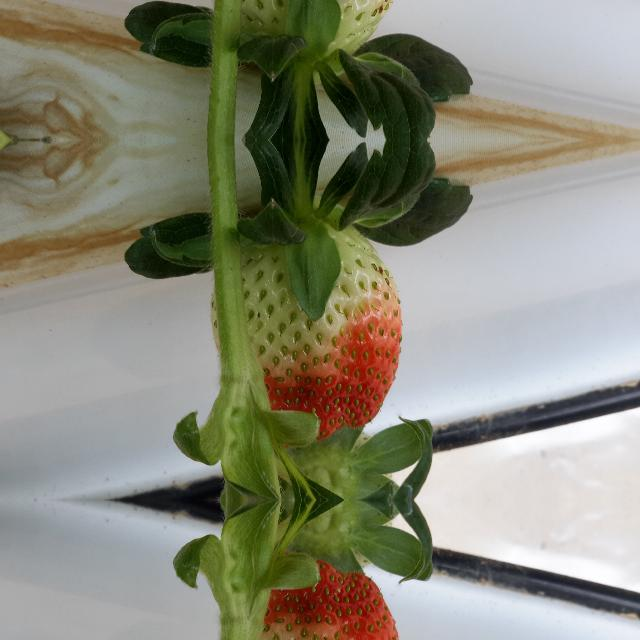Health_75: (210, 220, 402, 438), (209, 562, 402, 640), (209, 0, 402, 59)
